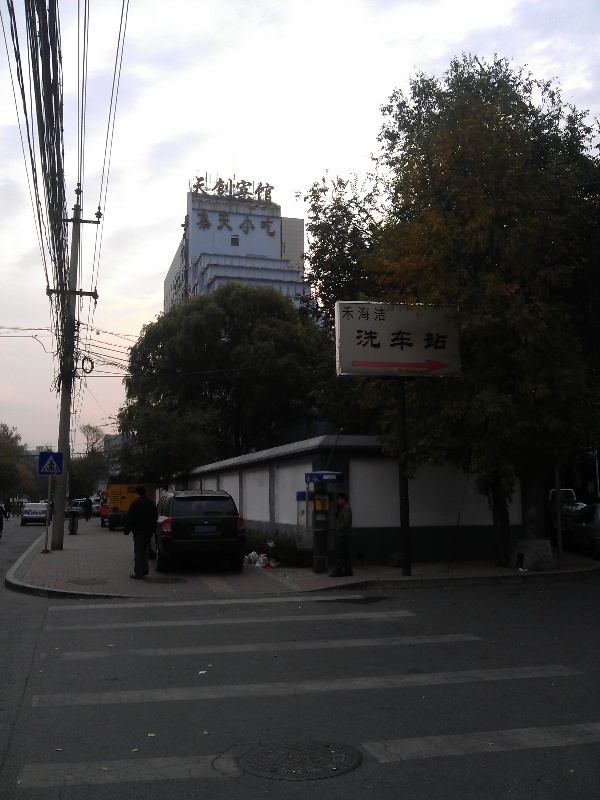text: (209, 176, 224, 205), (225, 176, 240, 205), (241, 176, 256, 205), (257, 176, 272, 205), (194, 176, 208, 205), (209, 211, 224, 237), (225, 211, 240, 237), (241, 211, 256, 237), (257, 211, 272, 237), (369, 329, 384, 352), (385, 329, 400, 352), (401, 329, 416, 352), (417, 329, 432, 352), (433, 329, 448, 352), (198, 211, 208, 237), (353, 306, 368, 323), (369, 306, 384, 323), (358, 329, 368, 352), (342, 306, 352, 323), (273, 211, 276, 237), (273, 176, 275, 205), (385, 306, 387, 323), (203, 521, 208, 525), (209, 521, 210, 525)
